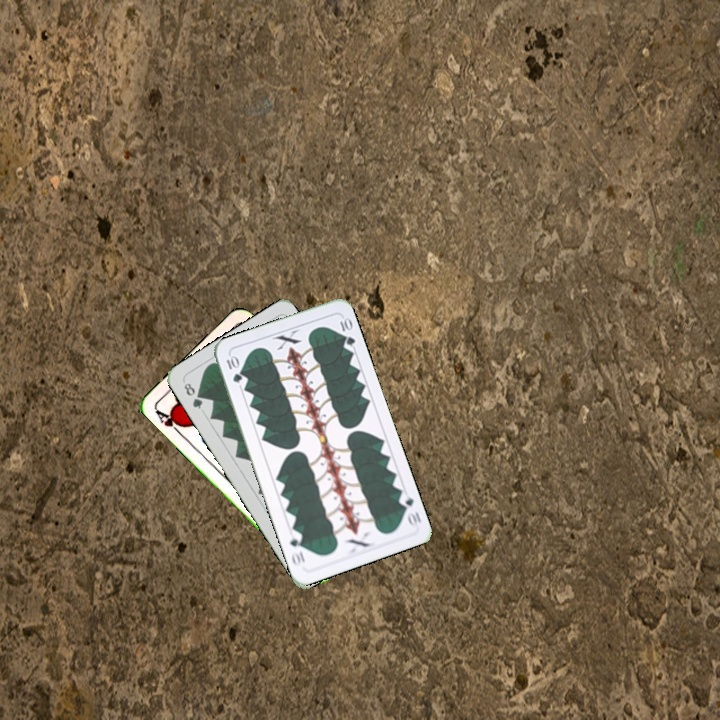G10: (395, 491, 424, 530), (222, 351, 245, 385)
G8: (180, 377, 205, 412)
HA: (151, 405, 187, 438)
